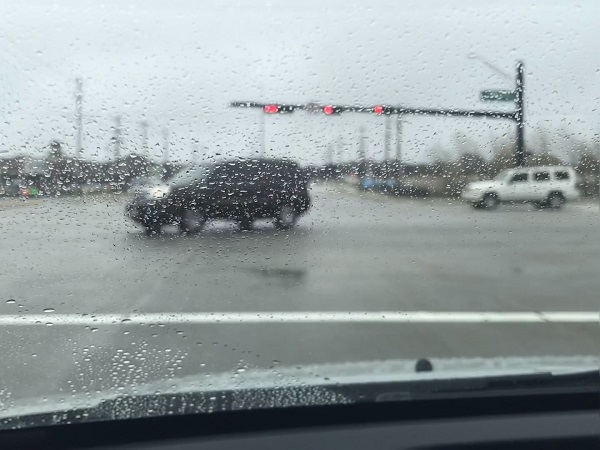car: (124, 157, 307, 233), (461, 167, 578, 213)
traffic light: (260, 101, 278, 114), (320, 106, 333, 113), (373, 106, 382, 114)
